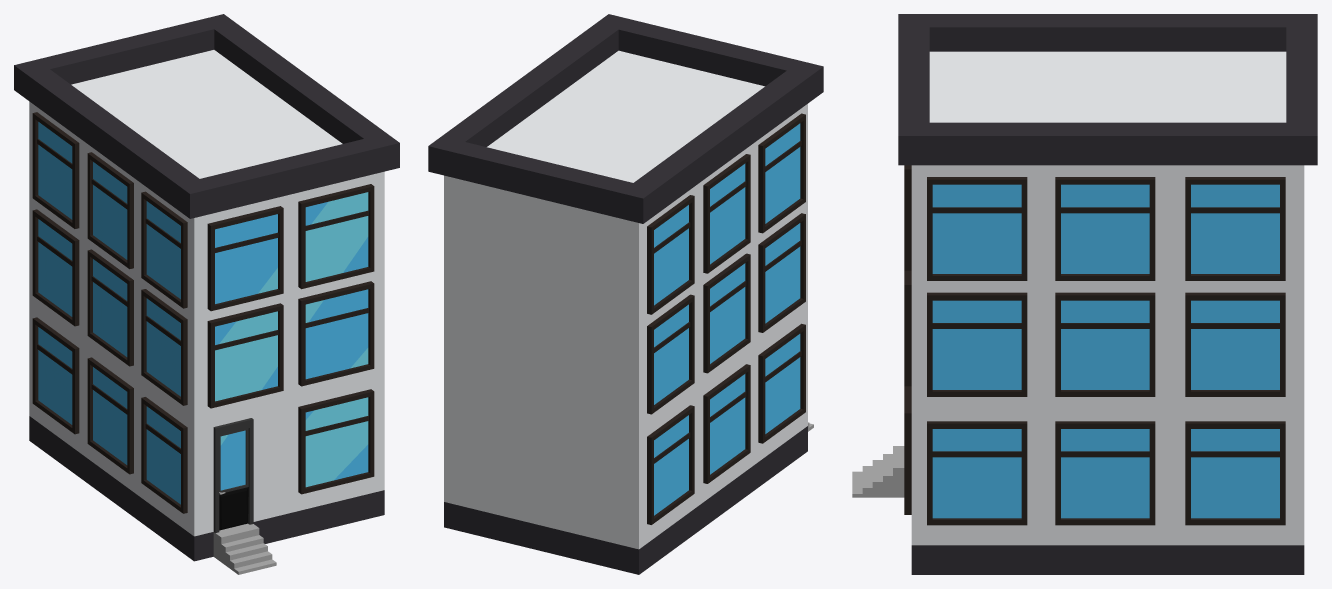
File: Env_CompanyBuilding_01.fbx
3 views of the same model, side by side, from view 1: azimuth 30°, elevation 25°; view 2: azimuth 150°, elevation 25°; view 3: azimuth 270°, elevation 25° (orthographic). The views are drawn at different scales.
Visible parts, largest first — view 1: Env_CompanyBuilding_01; view 2: Env_CompanyBuilding_01; view 3: Env_CompanyBuilding_01.
Boxes of the visible parts, bbox=[...] form: Env_CompanyBuilding_01: bbox=[14, 14, 399, 574]; Env_CompanyBuilding_01: bbox=[428, 14, 823, 574]; Env_CompanyBuilding_01: bbox=[852, 14, 1317, 574].
Bounding box in the file's own units: 575 × 978 × 927.
1 material, 1 textured.
